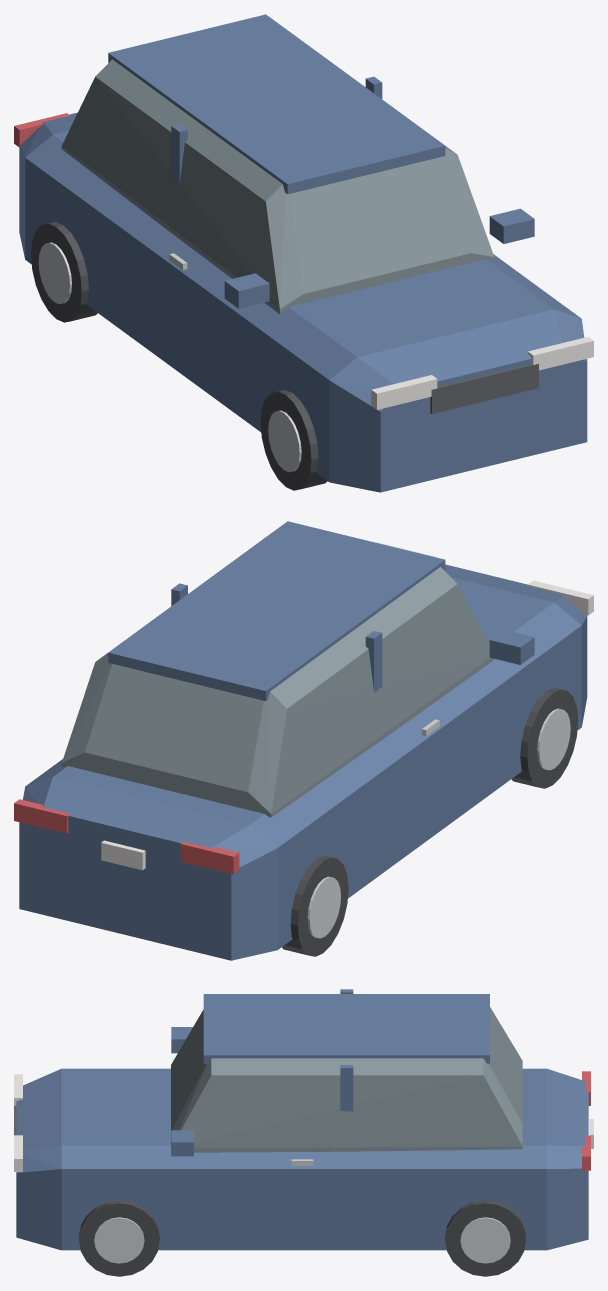
The model's file is highlander-2018.glb.
The picture shows the model from 3 angles, top to bottom: view 1: azimuth 30°, elevation 25°; view 2: azimuth 150°, elevation 25°; view 3: azimuth 270°, elevation 25°; orthographic projection. The views are drawn at different scales.
Parts seen in each view (by area): view 1: body, cabin_glass, roof, wheel_-1_1_tire, wheel_-1_-1_tire, grille, wheel_-1_-1_rim, wheel_-1_1_rim, headlight_-1, headlight_1, mirror_-1, mirror_1 (+1 smaller); view 2: body, cabin_glass, roof, wheel_-1_1_tire, wheel_-1_-1_tire, wheel_-1_1_rim, wheel_-1_-1_rim, taillight_-1, mirror_-1, taillight_1, rear_plate, pillar_-1 (+1 smaller); view 3: body, cabin_glass, roof, wheel_1_-1_tire, wheel_1_1_tire, wheel_1_1_rim, wheel_1_-1_rim, pillar_1, mirror_1, mirror_-1.
Part boxes in pixels (box(x1,y1,x2,y2)): body: box(19, 112, 587, 492); cabin_glass: box(61, 59, 494, 314); roof: box(108, 14, 445, 194); wheel_-1_1_tire: box(260, 390, 327, 490); wheel_-1_-1_tire: box(31, 221, 97, 322); grille: box(430, 364, 538, 413); wheel_-1_-1_rim: box(38, 242, 71, 304); wheel_-1_1_rim: box(268, 410, 301, 472); headlight_-1: box(371, 375, 437, 409); headlight_1: box(527, 336, 593, 370); mirror_-1: box(224, 273, 269, 308); mirror_1: box(489, 208, 534, 243); body: box(19, 564, 587, 960); cabin_glass: box(61, 567, 494, 817); roof: box(108, 521, 445, 701); wheel_-1_1_tire: box(511, 688, 578, 788); wheel_-1_-1_tire: box(282, 856, 348, 956); wheel_-1_1_rim: box(537, 708, 570, 770); wheel_-1_-1_rim: box(307, 876, 340, 938); taillight_-1: box(180, 841, 239, 874); mirror_-1: box(489, 629, 534, 664); taillight_1: box(14, 799, 69, 833); rear_plate: box(101, 840, 145, 870); pillar_-1: box(365, 631, 382, 692); body: box(16, 1068, 588, 1250); cabin_glass: box(171, 1007, 522, 1152); roof: box(203, 994, 489, 1063); wheel_1_-1_tire: box(445, 1200, 525, 1276); wheel_1_1_tire: box(79, 1200, 159, 1276); wheel_1_1_rim: box(94, 1217, 144, 1263); wheel_1_-1_rim: box(460, 1217, 510, 1263); pillar_1: box(340, 1065, 353, 1111); mirror_1: box(171, 1130, 193, 1156); mirror_-1: box(171, 1027, 192, 1053).
Size of the model in its own units: 2.29 by 1.85 by 4.87.
